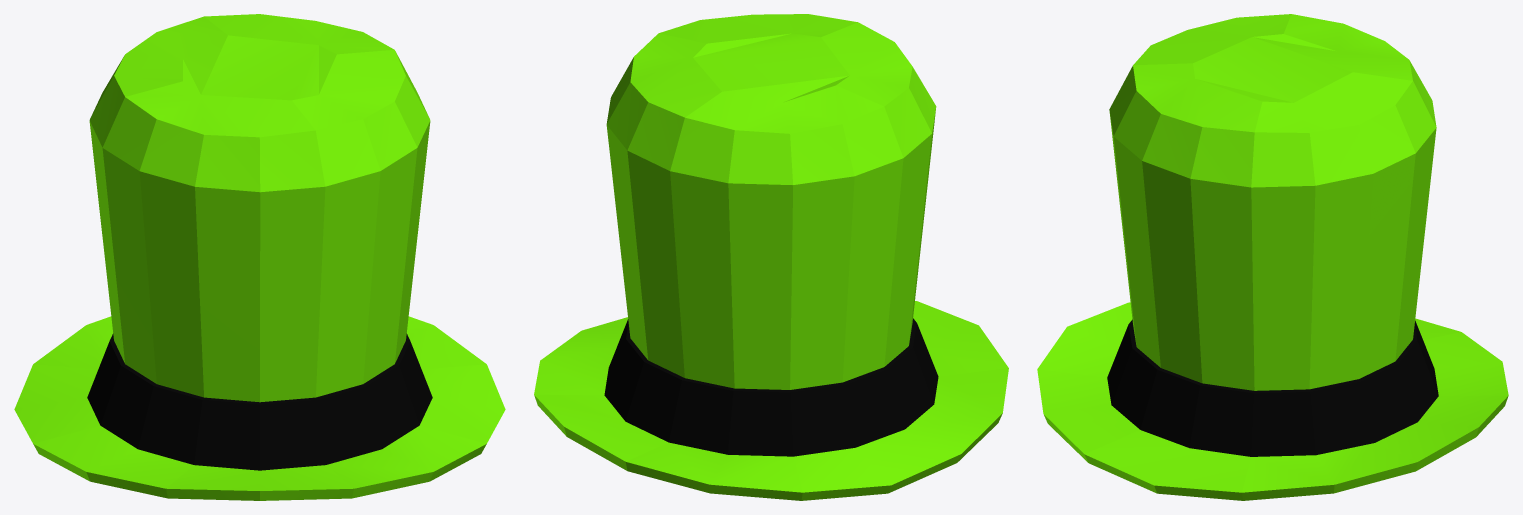
Rendered from Toy67.fbx.
3 views of the same model, side by side, from view 1: azimuth 30°, elevation 25°; view 2: azimuth 150°, elevation 25°; view 3: azimuth 270°, elevation 25° (orthographic). The views are drawn at different scales.
Visible parts, largest first — view 1: Toy67; view 2: Toy67; view 3: Toy67.
Part boxes in pixels (<box>): Toy67: <box>14,14,505,500</box>; Toy67: <box>534,14,1008,500</box>; Toy67: <box>1037,14,1508,500</box>.
Bounding box in the file's own units: 0.1604 × 0.1281 × 0.1604.
